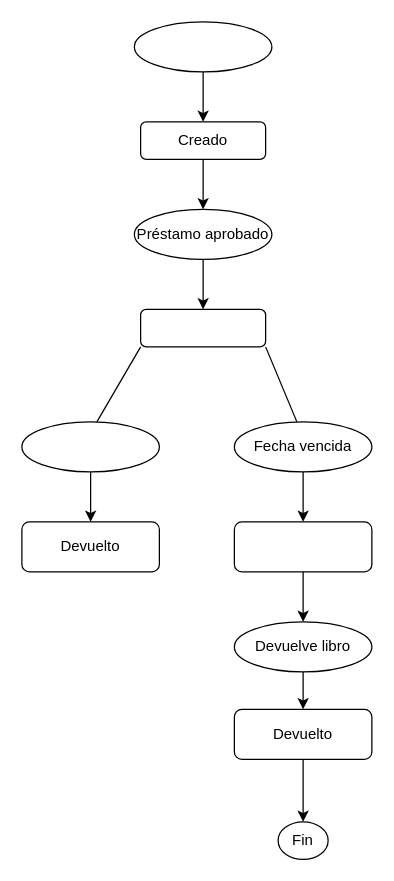
Some shapes in this 394 by 881 pixel diagram are drawn without their labels. The shapes that lost their labels are listed below. From the top down, each one's centre as x and y in pixels, then its label:
(x=202, y=46): Inicio
(x=202, y=327): Archivo
(x=90, y=446): Devuelto a tiempo
(x=302, y=546): Retrasado
